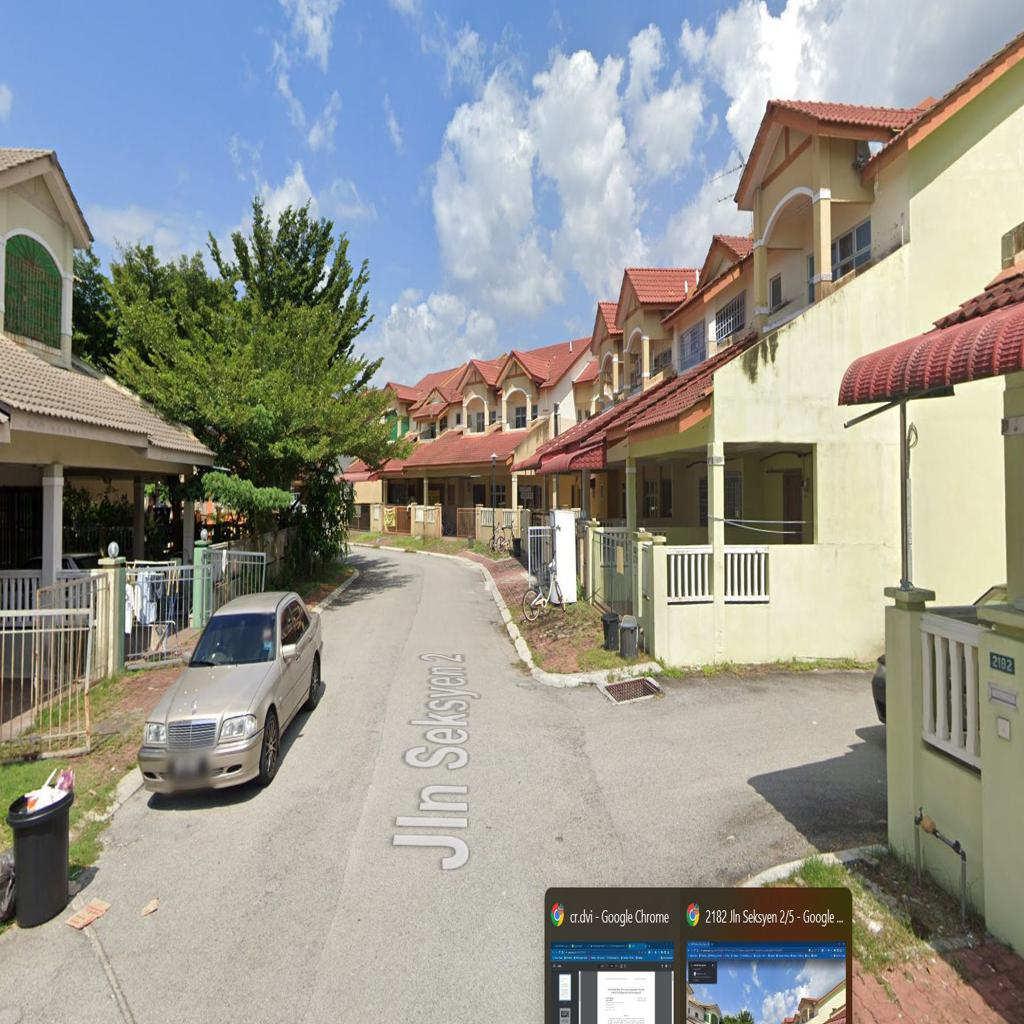Junction: (521, 640, 879, 868)
